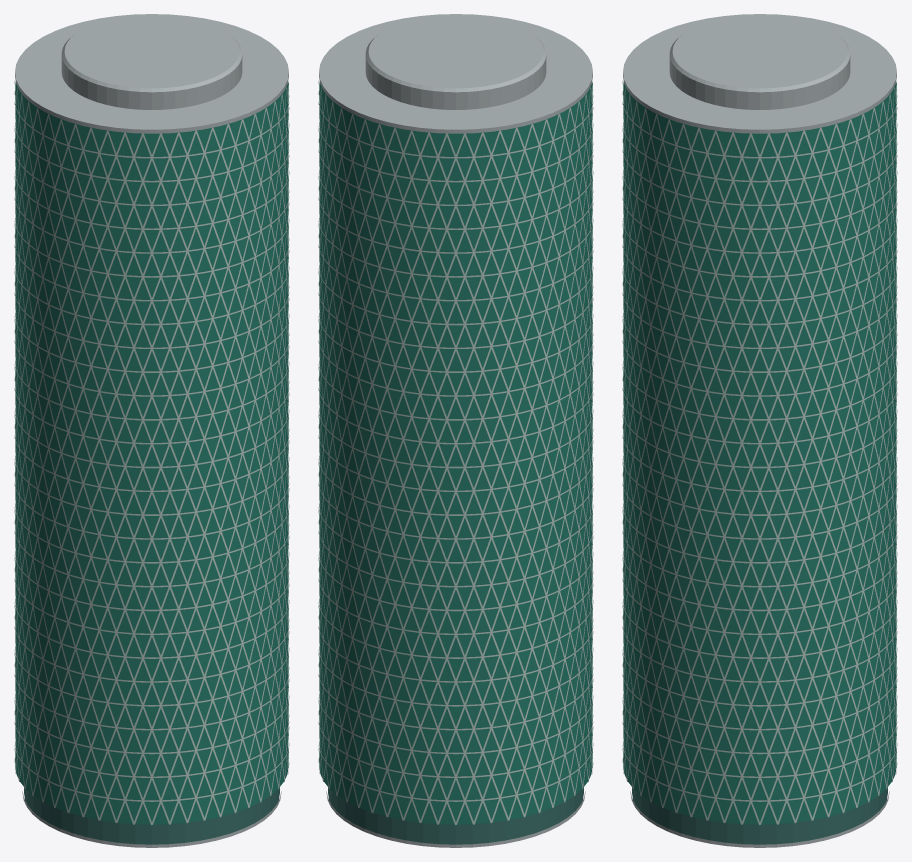
File: frankfurt-westhafen-tower.detail.glb
3 renders of one model, left to right at view 1: azimuth 30°, elevation 25°; view 2: azimuth 150°, elevation 25°; view 3: azimuth 270°, elevation 25°, orthographic.
Visible parts, largest first — view 1: Westhafen Tower; view 2: Westhafen Tower; view 3: Westhafen Tower.
Boxes of the visible parts, x1=… form: Westhafen Tower: x1=14, y1=14, x2=289, y2=847; Westhafen Tower: x1=318, y1=14, x2=593, y2=847; Westhafen Tower: x1=622, y1=14, x2=897, y2=847.
Size of the model in its own units: 37.74 by 112 by 37.74.
